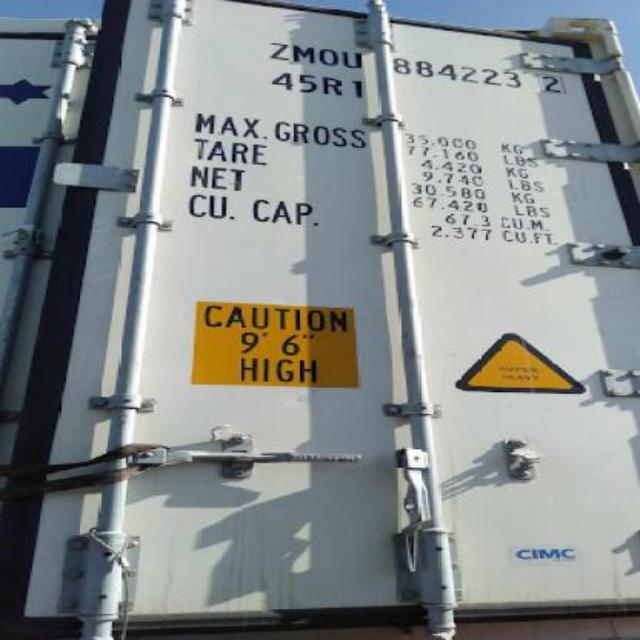2: (538, 74, 566, 95), (459, 65, 479, 85), (480, 68, 502, 86)
3: (502, 69, 522, 89)
4: (438, 63, 458, 81)
8: (391, 56, 411, 76), (414, 59, 434, 79)
M: (292, 44, 316, 64)
O: (318, 48, 340, 68)
U: (341, 49, 363, 71)
Z: (267, 40, 291, 62)
